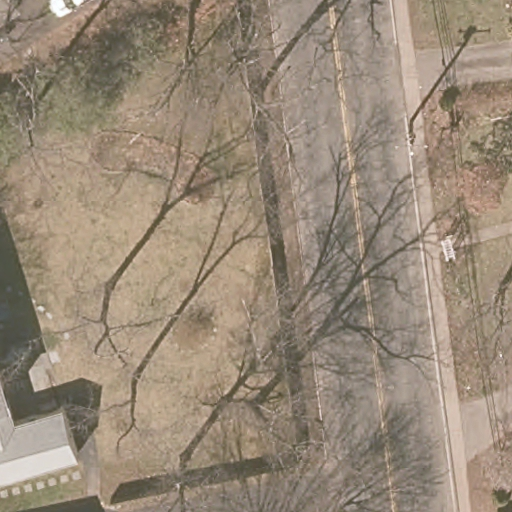DT: (401, 111, 428, 156)
